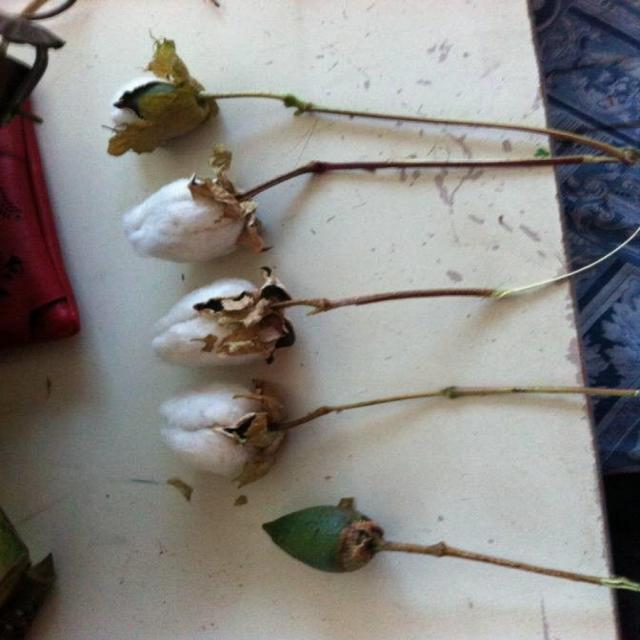Early_blight: (137, 273, 311, 379), (101, 31, 237, 156), (142, 375, 293, 487), (121, 176, 263, 261)
